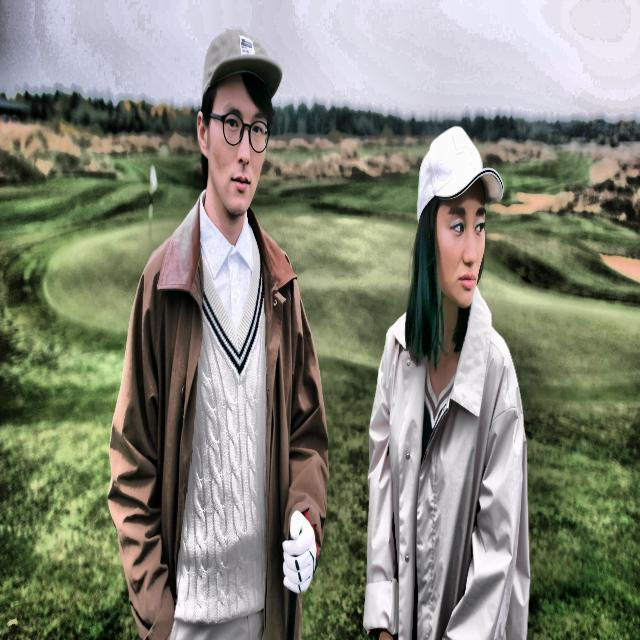gloved: (274, 504, 324, 619)
